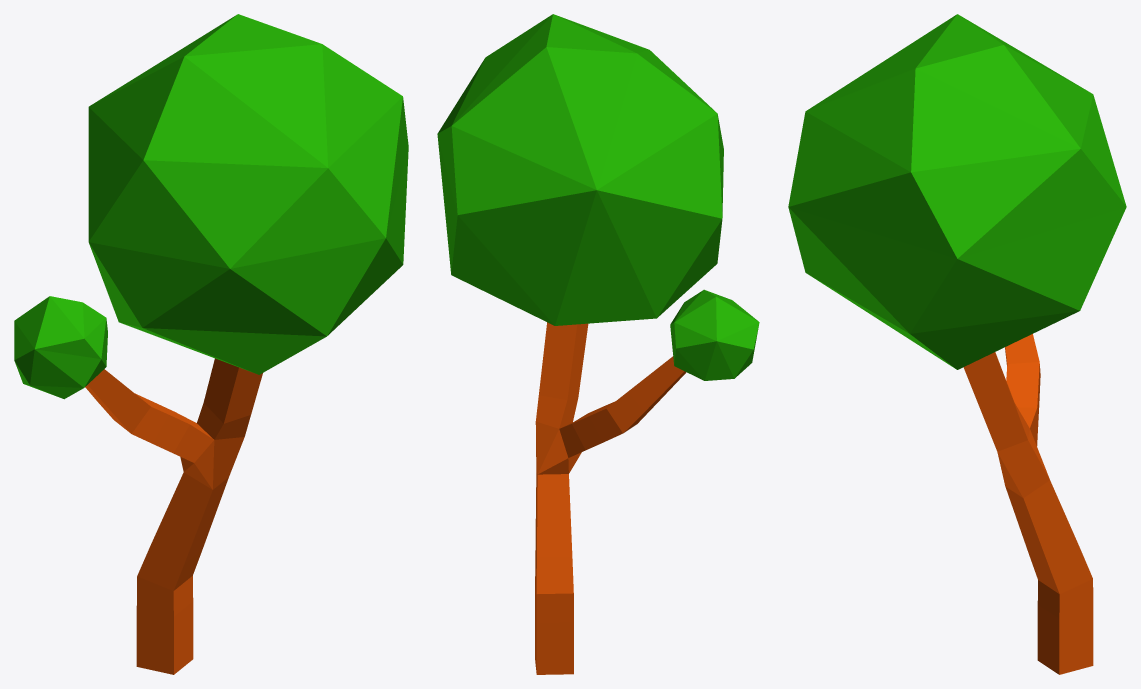
The model's file is DobreDrzewov3m1.fbx.
3 renders of one model, left to right at view 1: azimuth 30°, elevation 25°; view 2: azimuth 150°, elevation 25°; view 3: azimuth 270°, elevation 25°, orthographic. The views are drawn at different scales.
Visible parts, largest first — view 1: Kula ico.001, Kostka, Kula ico; view 2: Kula ico.001, Kostka, Kula ico; view 3: Kula ico.001, Kostka.
Boxes of the visible parts, box(x1,y1,x2,y2) form: Kula ico.001: box(88, 14, 408, 374); Kostka: box(85, 358, 262, 674); Kula ico: box(14, 296, 107, 399); Kula ico.001: box(437, 14, 723, 325); Kostka: box(535, 322, 686, 674); Kula ico: box(670, 289, 759, 380); Kula ico.001: box(788, 14, 1126, 369); Kostka: box(963, 334, 1093, 674).
Bounding box in the file's own units: 834 × 1409 × 678.
